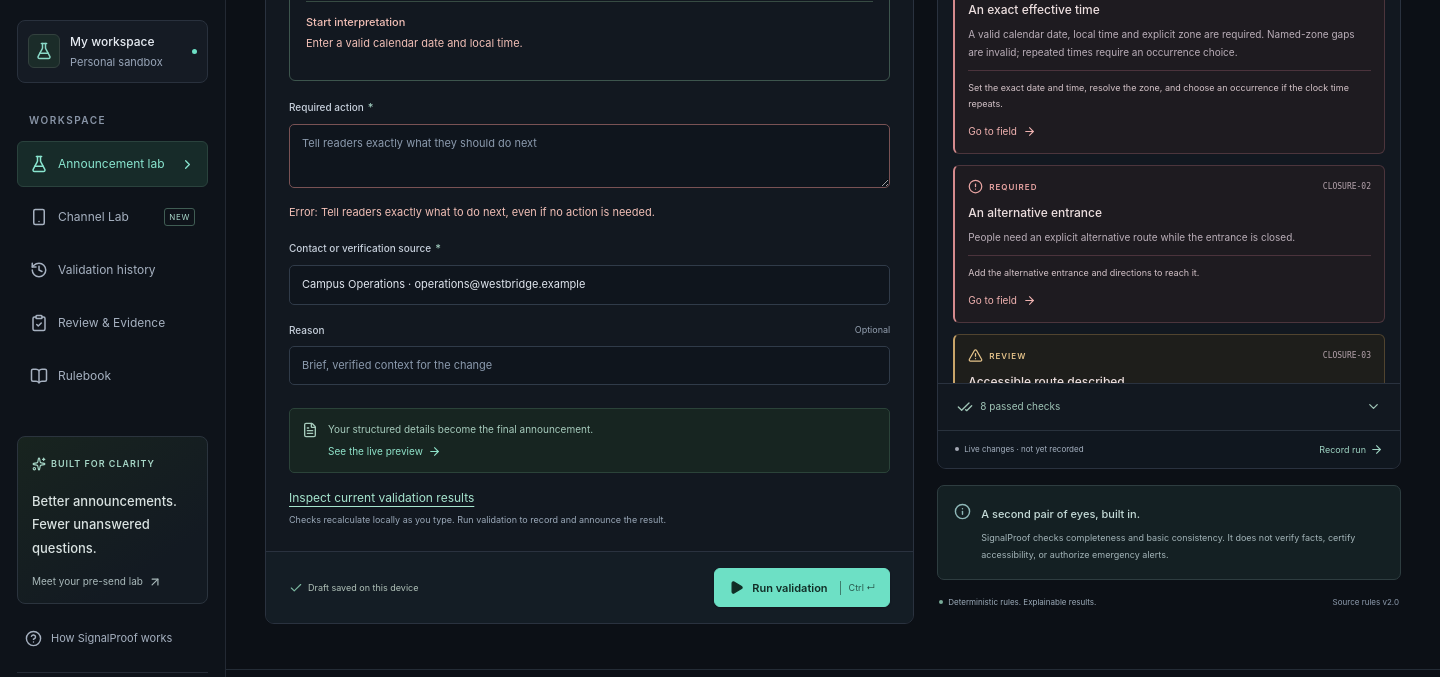
Scenario: announcement lab workflows › records immutable validation snapshots, restores them, and preserves session history
(page scrolled)
Click the button "Run validation Ctrl ↵" at (802, 588), box [714,568,890,607]
(page scrolled)
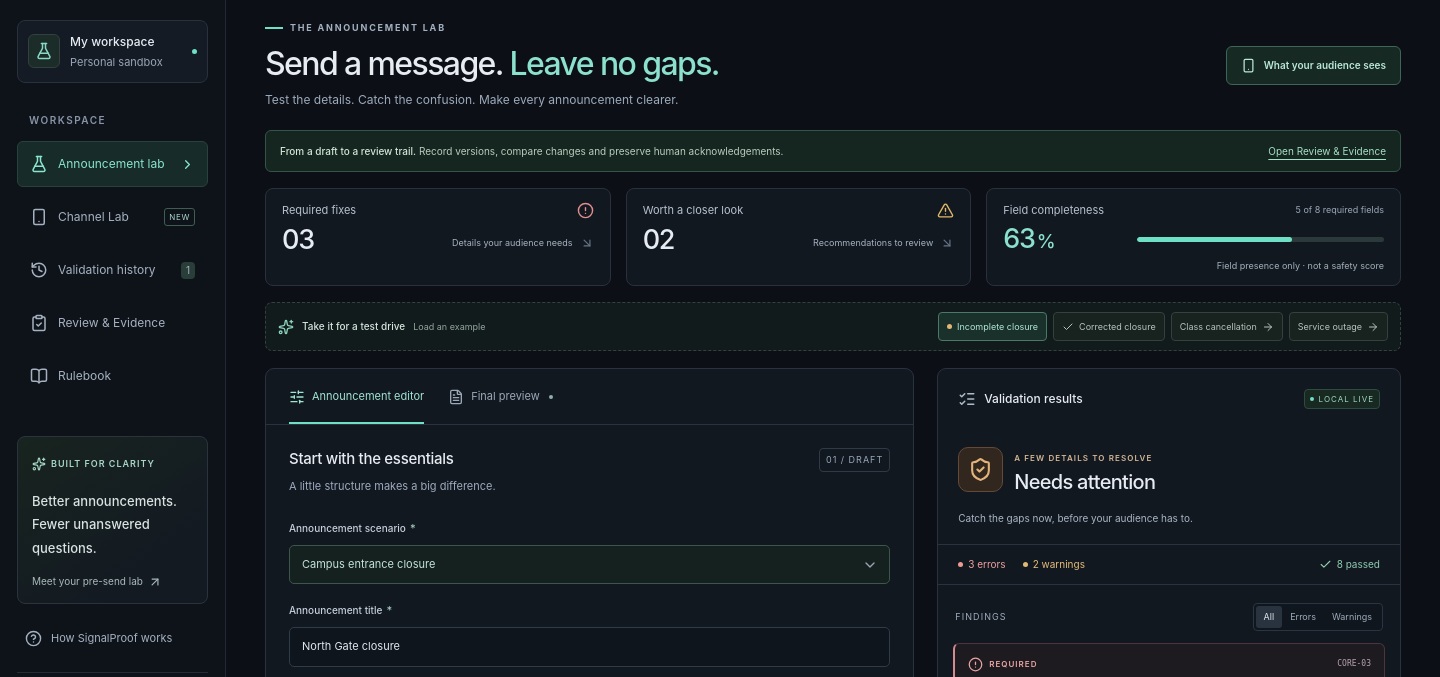
Click the button "Corrected closure" at (1109, 327), box [1053,312,1165,341]
(page scrolled)
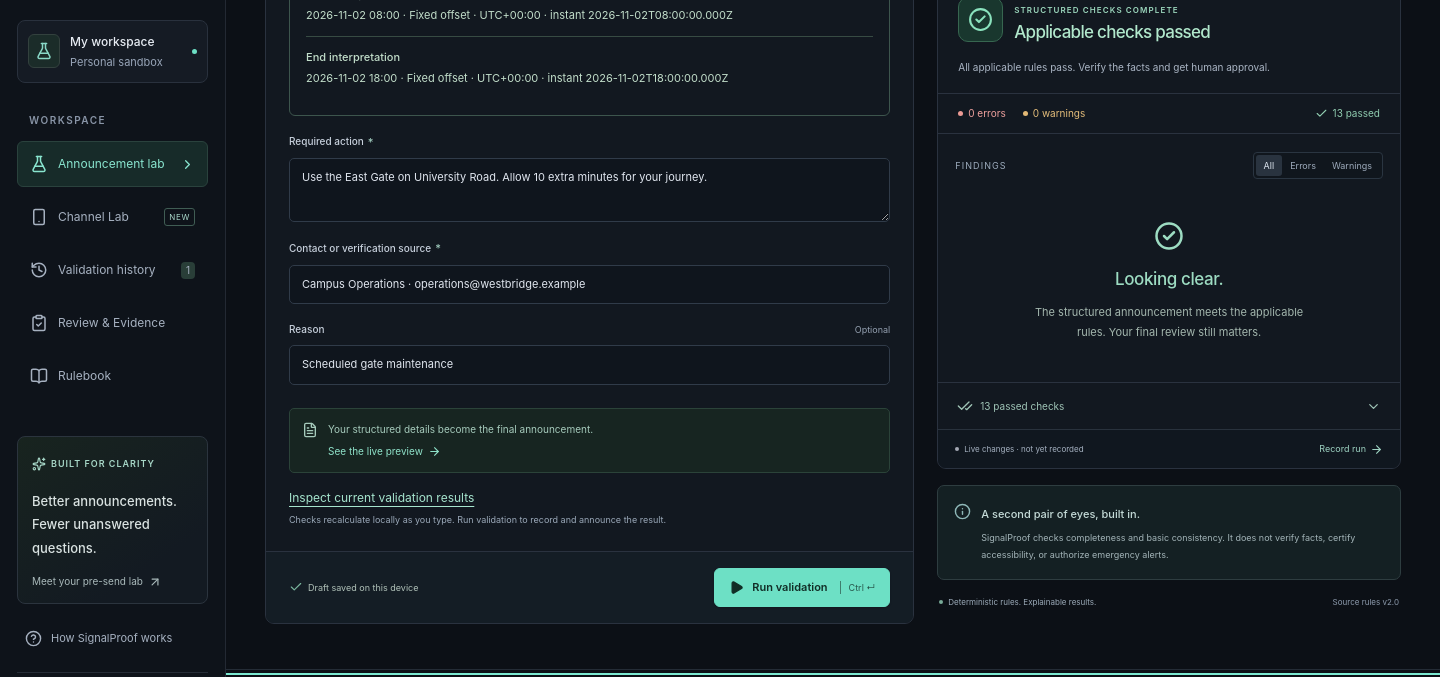
Click the button "Run validation Ctrl ↵" at (802, 587), box [714,568,890,607]
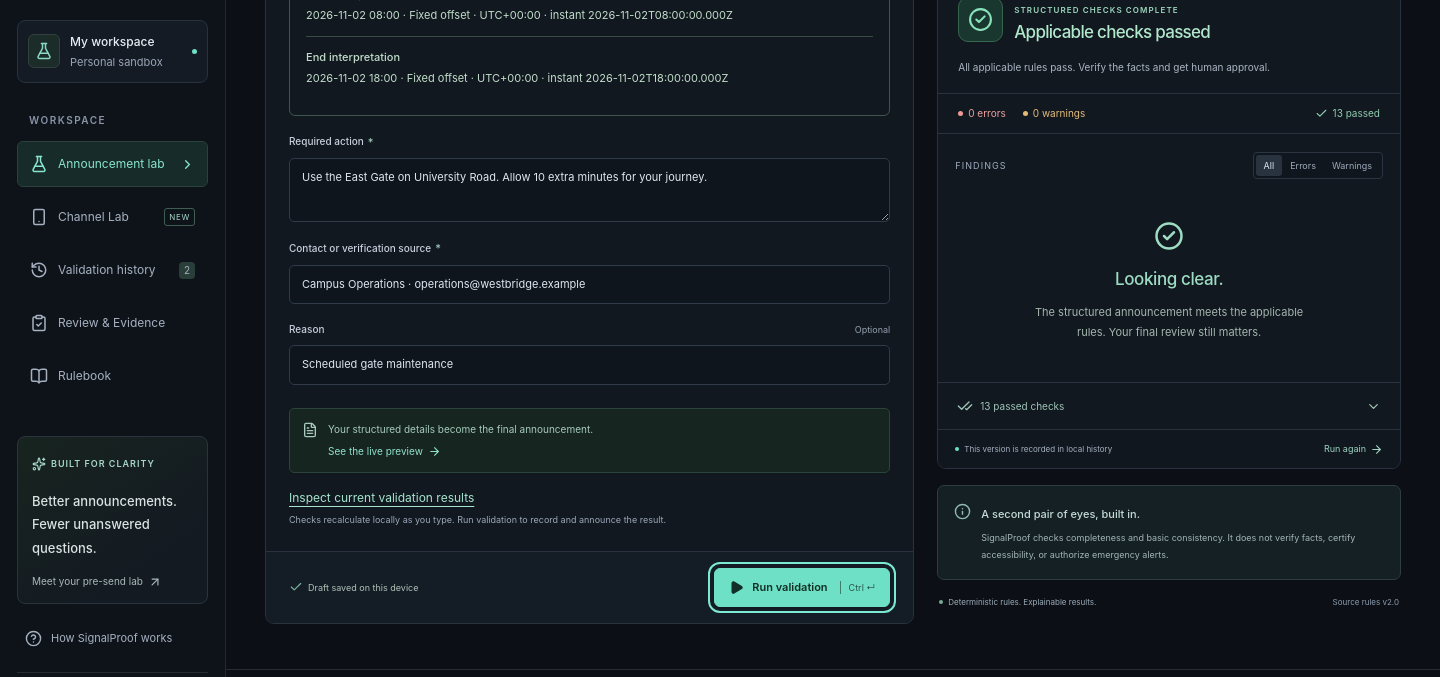
Click the button "Validation history 2" at (112, 270), box [17,247,208,293]
(page scrolled)
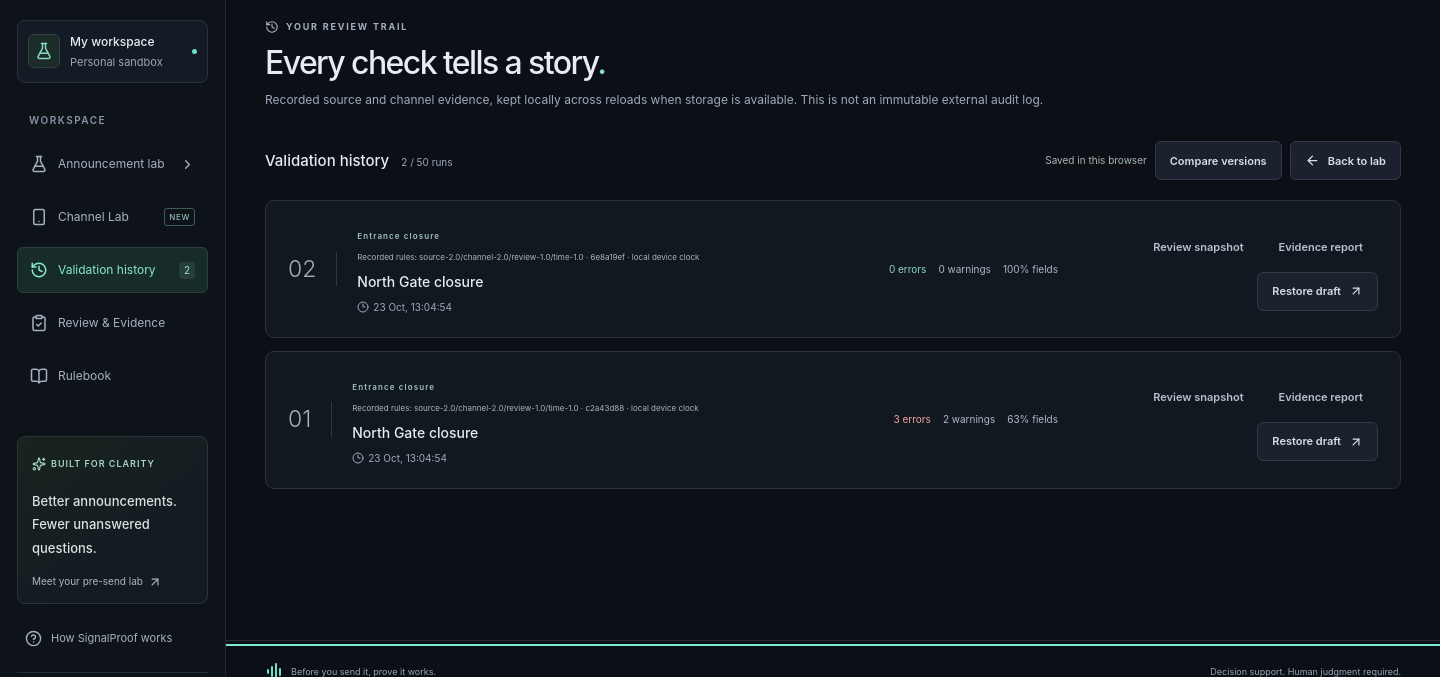
Result: the text "0 errors" is shown at [889,262,926,277]
Result: the number of buttons "Restore draft" is 2
Result: the text "3 errors" is shown at [894,412,931,427]
Click the button "Restore draft" in the row of "63" at (1318, 442), box [1257,422,1378,461]
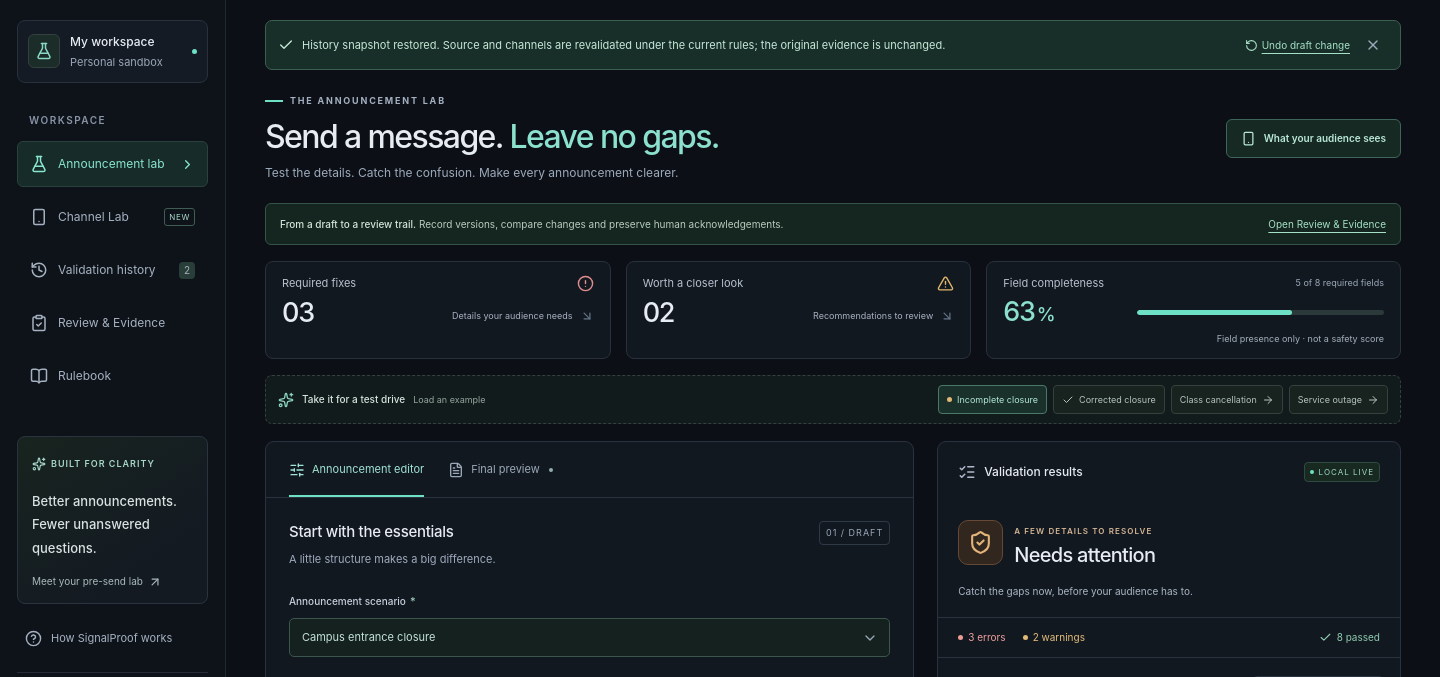
Result: the heading "Needs attention" is shown at [1014,543,1155,567]
Click the button "Validation history 2" at (112, 270), box [17,247,208,293]
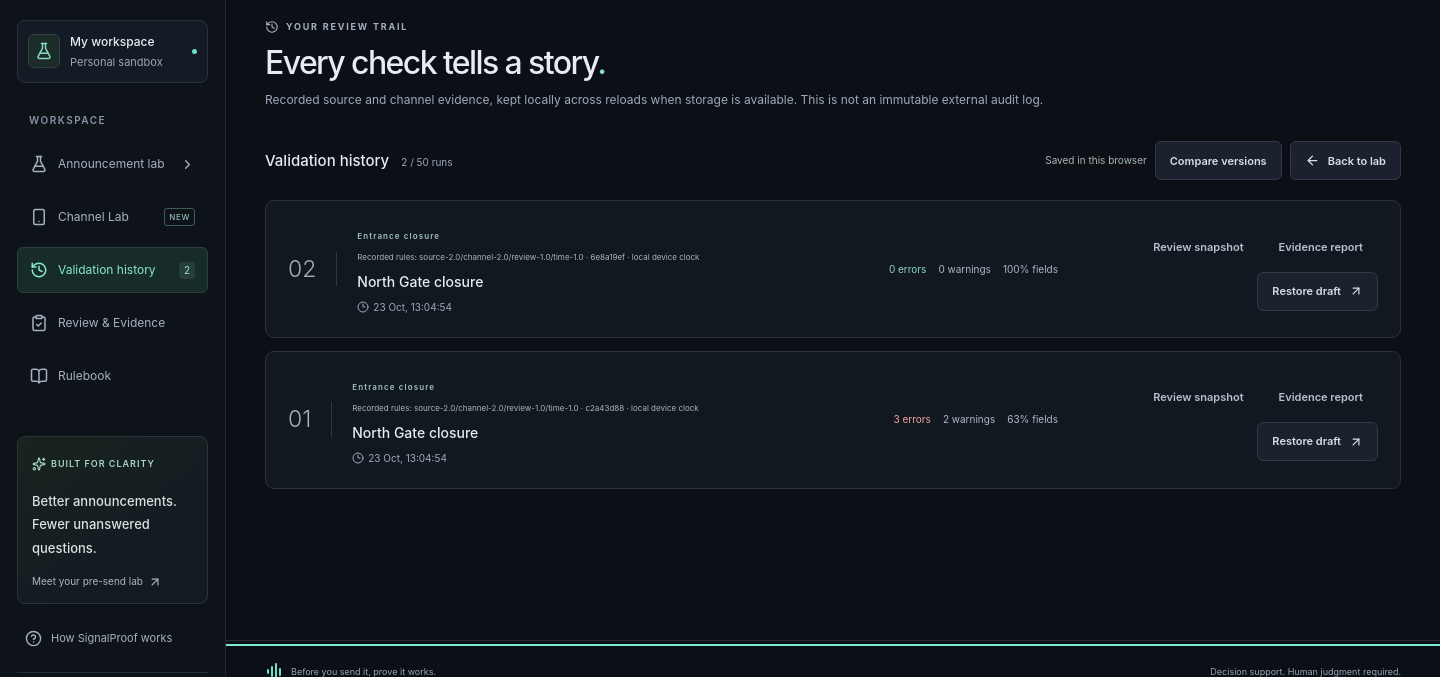
Result: the number of buttons "Restore draft" is 2 at [1257,272,1378,311]; [1257,422,1378,461]
